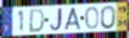1: (17, 9, 25, 32)
A: (63, 7, 82, 32)
D: (27, 8, 45, 33)
J: (49, 6, 64, 33)
O: (100, 5, 117, 30), (85, 6, 100, 30)
